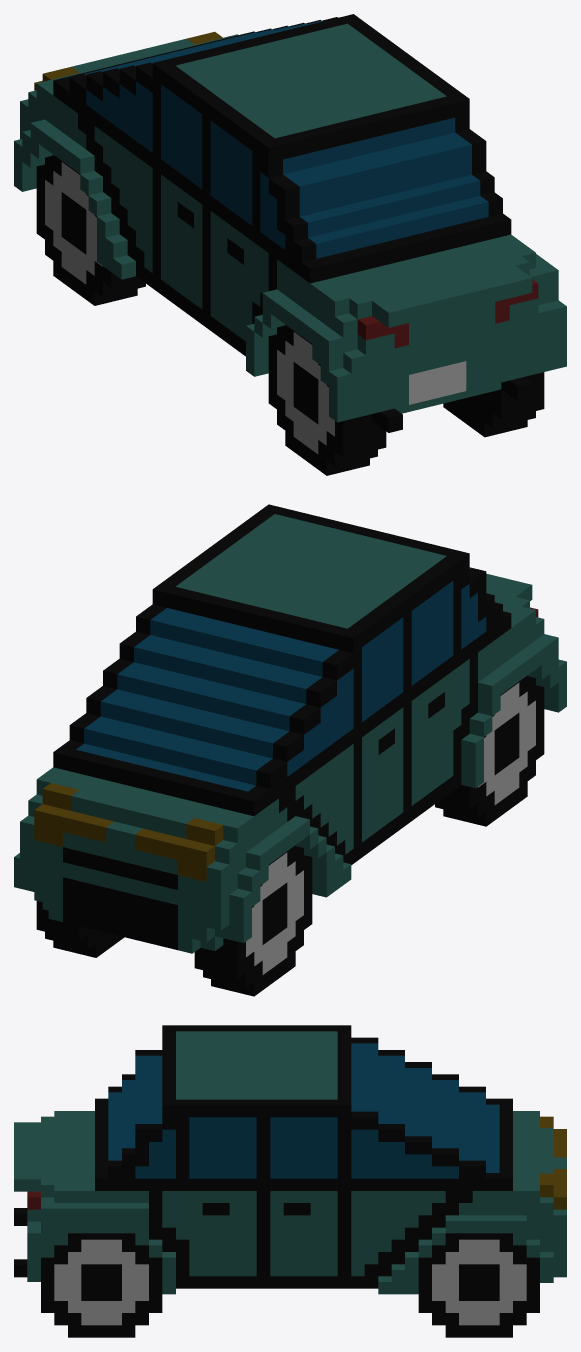
The model's file is car.obj.
3 views of the same model, one above another, from view 1: azimuth 30°, elevation 25°; view 2: azimuth 150°, elevation 25°; view 3: azimuth 270°, elevation 25° (orthographic). The views are drawn at different scales.
Bounding box in the file's own units: 1.6 × 1.9 × 4.1.
Materials: 1 (1 with a texture image).
